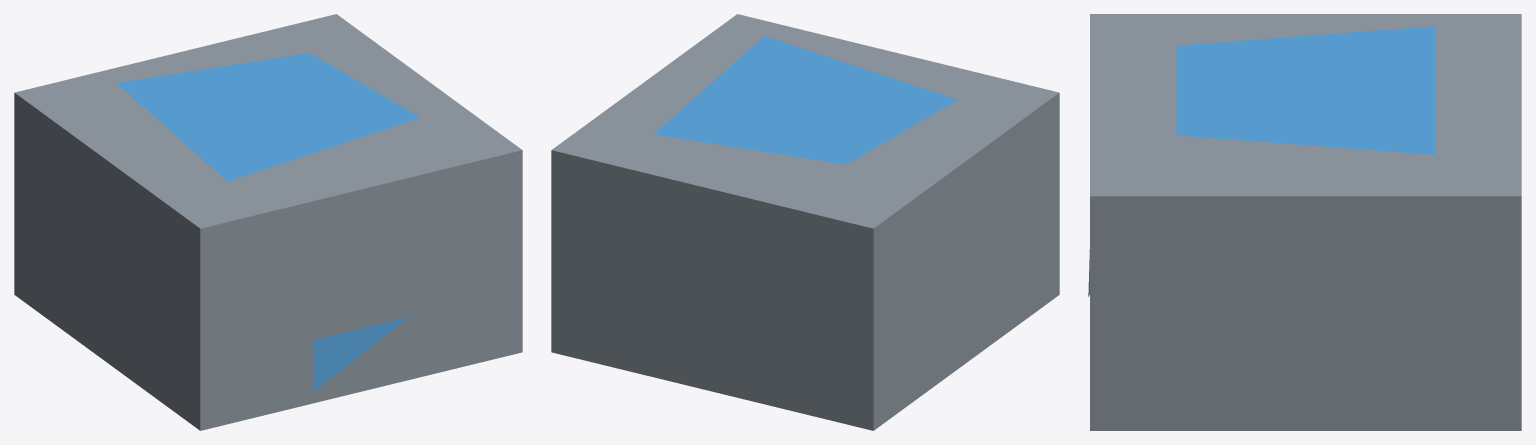
File: AL_ConYard_LOD1.glb
The picture shows the model from 3 angles, left to right: view 1: azimuth 30°, elevation 25°; view 2: azimuth 150°, elevation 25°; view 3: azimuth 270°, elevation 25°; orthographic projection. The views are drawn at different scales.
Visible parts, largest first — view 1: EntranceGate; view 2: EntranceGate; view 3: EntranceGate.
Part boxes in pixels (left/top/right/bottom): EntranceGate: left=14, top=14, right=522, bottom=430; EntranceGate: left=551, top=14, right=1059, bottom=430; EntranceGate: left=1088, top=14, right=1521, bottom=430.
Bounding box in the file's own units: 800 × 530 × 803.
